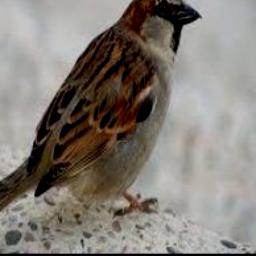Sparrow: (0, 0, 202, 233)
